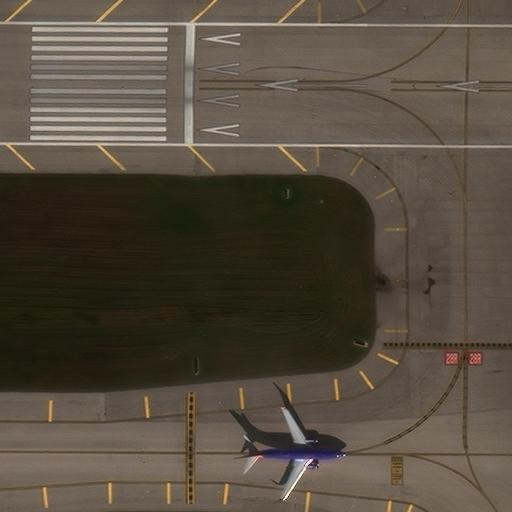Medium Civil Transport: (239, 406, 346, 501)
